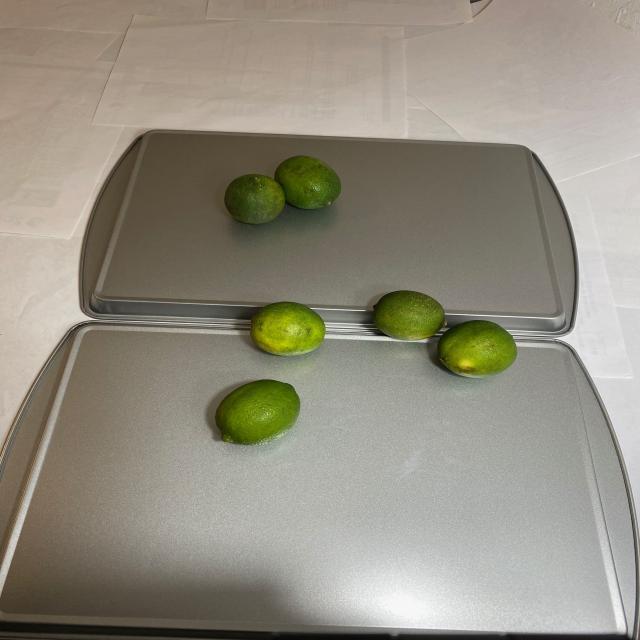lemon: (211, 290, 515, 452), (214, 156, 352, 229)
